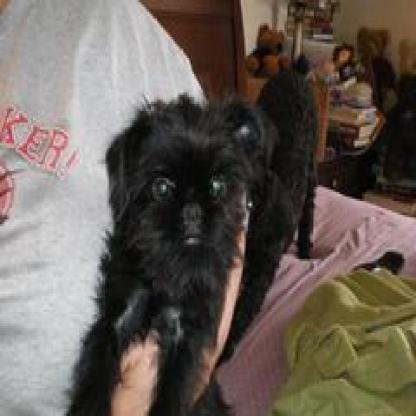affenpinscher: (63, 88, 257, 411)
